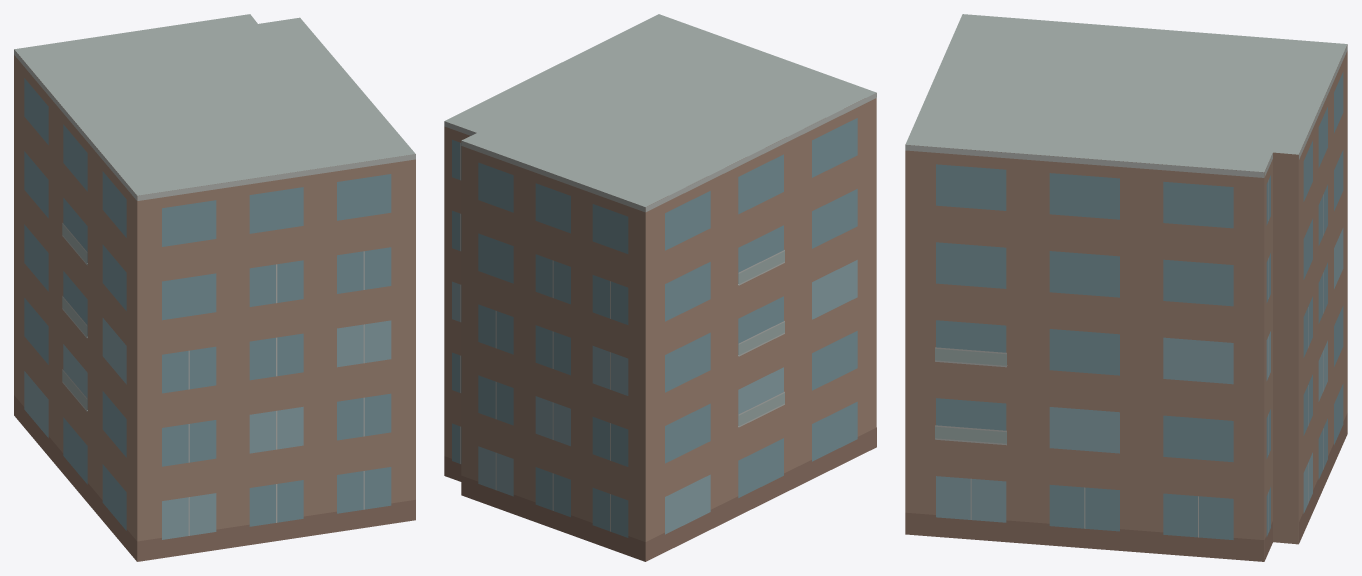
Rendered from survey-upis-32536524.glb.
The picture shows the model from 3 angles, left to right: view 1: azimuth 30°, elevation 25°; view 2: azimuth 150°, elevation 25°; view 3: azimuth 270°, elevation 25°; orthographic projection. The views are drawn at different scales.
Visible parts, largest first — view 1: survey-upis-32536524.tmp; view 2: survey-upis-32536524.tmp; view 3: survey-upis-32536524.tmp.
Boxes of the visible parts, <box> form: survey-upis-32536524.tmp: <box>14,14,415,561</box>; survey-upis-32536524.tmp: <box>444,14,876,561</box>; survey-upis-32536524.tmp: <box>905,14,1347,561</box>.
Bounding box in the file's own units: 14.33 × 16.45 × 16.93.
